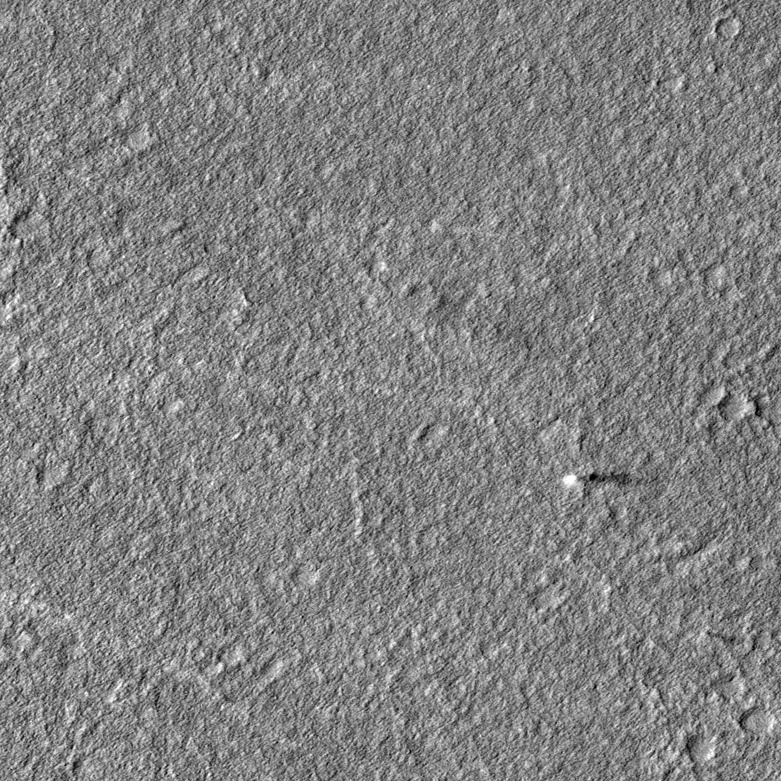dust_devil: (560, 468, 635, 490)
